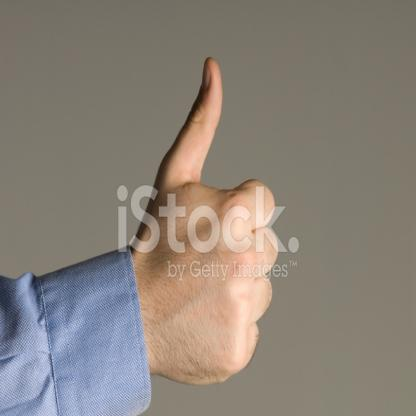Thumbs-Up: (117, 48, 284, 395)
